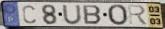8: (40, 4, 58, 25)
B: (82, 4, 103, 25)
C: (22, 4, 38, 24)
O: (107, 4, 129, 26)
R: (126, 4, 149, 26)
U: (61, 4, 84, 26)
